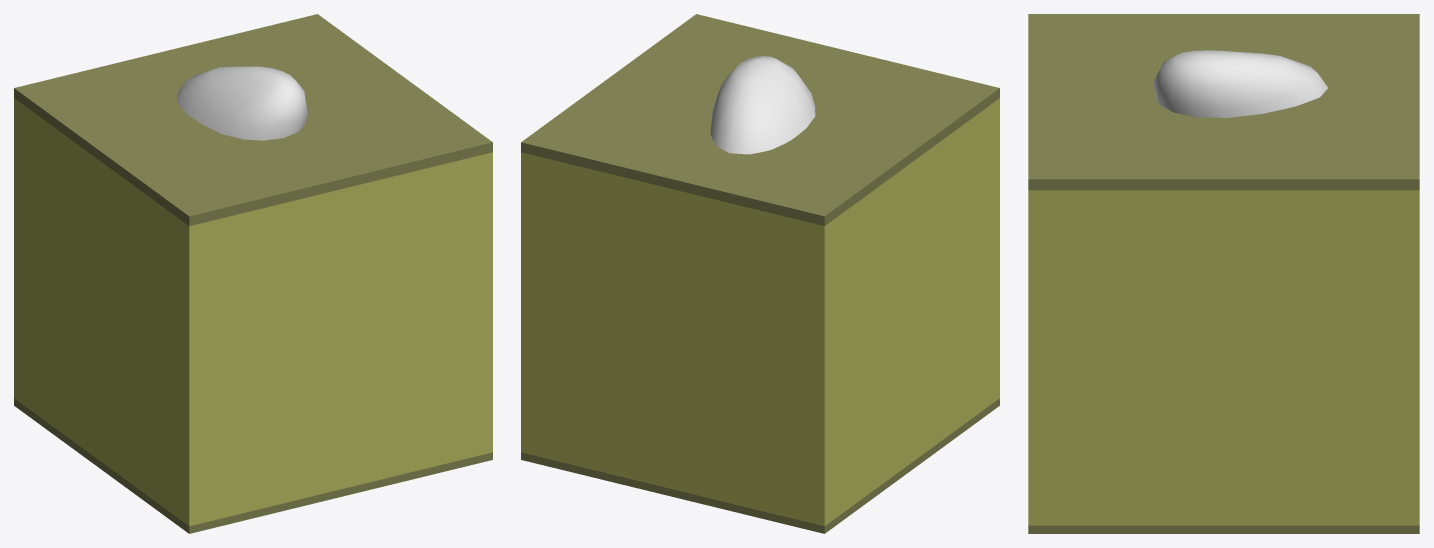
Rendered from cake_ygreen_1.fbx.
3 views of the same model, side by side, from view 1: azimuth 30°, elevation 25°; view 2: azimuth 150°, elevation 25°; view 3: azimuth 270°, elevation 25° (orthographic). The views are drawn at different scales.
Visible parts, largest first — view 1: 立方体.030; view 2: 立方体.030; view 3: 立方体.030.
Boxes of the visible parts, <box> form: 立方体.030: <box>14,14,492,533</box>; 立方体.030: <box>521,14,999,533</box>; 立方体.030: <box>1028,14,1419,533</box>.
Bounding box in the file's own units: 14.6 × 16.6 × 14.6.
